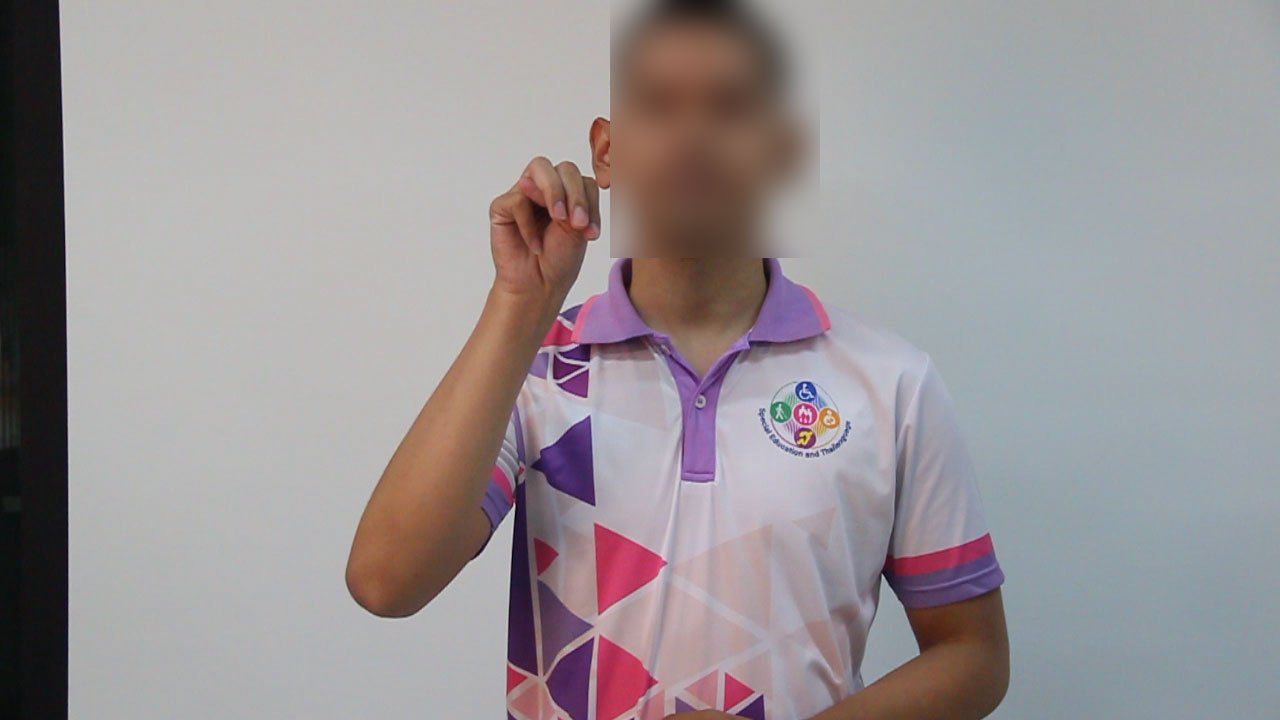mor: (486, 139, 605, 316)
